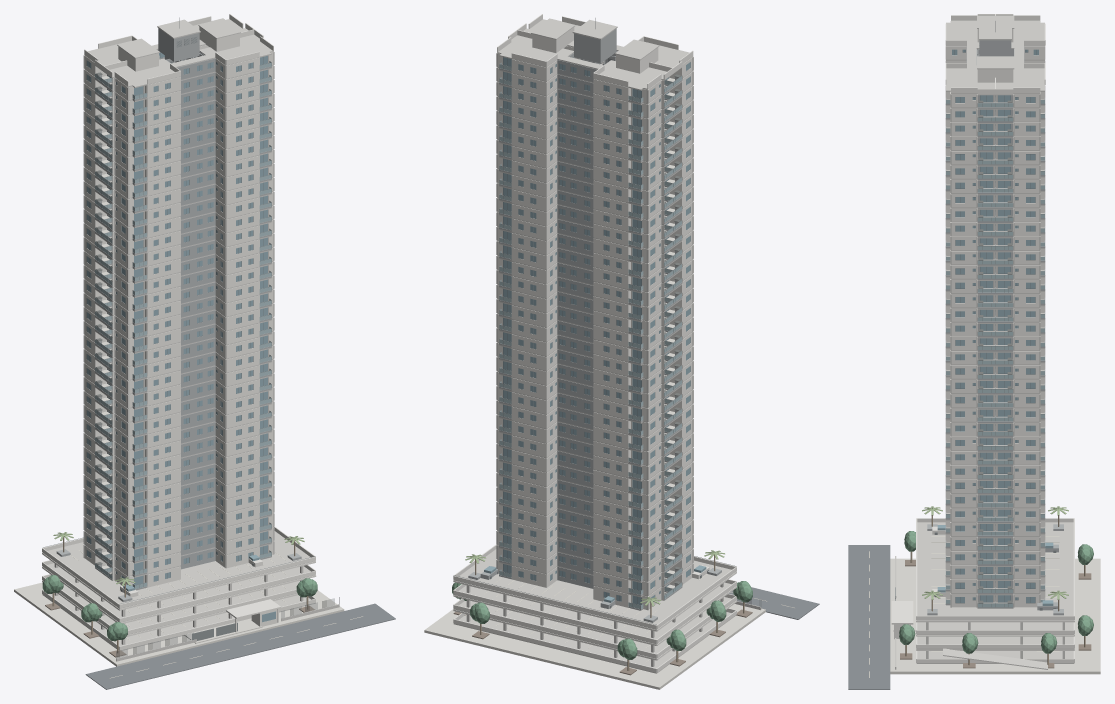
File: Firenze_Grupo15_Torre_Completa.glb
3 renders of one model, left to right at view 1: azimuth 30°, elevation 25°; view 2: azimuth 150°, elevation 25°; view 3: azimuth 270°, elevation 25°, orthographic. The views are drawn at different scales.
Visible parts, largest first — view 1: BASE_GARAGENS_PAISAGISMO/BASE_Garagens_lajes__Concreto, BASE_GARAGENS_PAISAGISMO/BASE_Rua__Asfalto, BASE_GARAGENS_PAISAGISMO/BASE_Garagens_fachadas__Fachada_mar, BASE_GARAGENS_PAISAGISMO/BASE_Terreno__Piso_porcelanato, COBERTURA/TOPO_Cobertura_lajes__Concreto, BASE_GARAGENS_PAISAGISMO/BASE_Terraco__Fachada_marfin, COBERTURA/TOPO_Cobertura_platibandas__Fachada_marfin, BASE_GARAGENS_PAISAGISMO/BASE_Arvores__Verde, COBERTURA/TOPO_Casas_tecnicas__Fachada_marfin, COBERTURA/TOPO_Casas_tecnicas__Concreto, COBERTURA/TOPO_Casa_maquinas__Fachada_cinza, BASE_GARAGENS_PAISAGISMO/BASE_Portaria__Fachada_marfin (+72 smaller); view 2: BASE_GARAGENS_PAISAGISMO/BASE_Garagens_lajes__Concreto, BASE_GARAGENS_PAISAGISMO/BASE_Garagens_fachadas__Fachada_mar, BASE_GARAGENS_PAISAGISMO/BASE_Terreno__Piso_porcelanato, COBERTURA/TOPO_Cobertura_lajes__Concreto, BASE_GARAGENS_PAISAGISMO/BASE_Terraco__Fachada_marfin, COBERTURA/TOPO_Cobertura_platibandas__Fachada_marfin, BASE_GARAGENS_PAISAGISMO/BASE_Arvores__Verde, BASE_GARAGENS_PAISAGISMO/BASE_Rua__Asfalto, COBERTURA/TOPO_Casas_tecnicas__Fachada_marfin, COBERTURA/TOPO_Casas_tecnicas__Concreto, COBERTURA/TOPO_Casa_maquinas__Fachada_cinza, PAVIMENTO_33_APTO_3301/U1_Paredes__Fachada_marfin (+72 smaller); view 3: BASE_GARAGENS_PAISAGISMO/BASE_Garagens_lajes__Concreto, BASE_GARAGENS_PAISAGISMO/BASE_Rua__Asfalto, BASE_GARAGENS_PAISAGISMO/BASE_Terreno__Piso_porcelanato, COBERTURA/TOPO_Cobertura_lajes__Concreto, BASE_GARAGENS_PAISAGISMO/BASE_Garagens_fachadas__Fachada_mar, COBERTURA/TOPO_Cobertura_platibandas__Fachada_marfin, BASE_GARAGENS_PAISAGISMO/BASE_Arvores__Verde, BASE_GARAGENS_PAISAGISMO/BASE_Terraco__Fachada_marfin, COBERTURA/TOPO_Casas_tecnicas__Concreto, BASE_GARAGENS_PAISAGISMO/BASE_Rampa__Concreto, BASE_GARAGENS_PAISAGISMO/BASE_Portaria__Fachada_marfin, COBERTURA/TOPO_Casas_tecnicas__Fachada_marfin (+4 smaller).
Part boxes in pixels (box(x1,y1,x2,y2)): BASE_GARAGENS_PAISAGISMO/BASE_Garagens_lajes__Concreto: box(43, 531, 315, 650); BASE_GARAGENS_PAISAGISMO/BASE_Rua__Asfalto: box(85, 603, 395, 689); BASE_GARAGENS_PAISAGISMO/BASE_Garagens_fachadas__Fachada_mar: box(42, 552, 315, 650); BASE_GARAGENS_PAISAGISMO/BASE_Terreno__Piso_porcelanato: box(14, 582, 344, 666); COBERTURA/TOPO_Cobertura_lajes__Concreto: box(85, 18, 273, 87); BASE_GARAGENS_PAISAGISMO/BASE_Terraco__Fachada_marfin: box(42, 526, 315, 608); COBERTURA/TOPO_Cobertura_platibandas__Fachada_marfin: box(84, 14, 273, 86); BASE_GARAGENS_PAISAGISMO/BASE_Arvores__Verde: box(42, 575, 317, 641); COBERTURA/TOPO_Casas_tecnicas__Fachada_marfin: box(118, 26, 239, 71); COBERTURA/TOPO_Casas_tecnicas__Concreto: box(117, 19, 240, 58); COBERTURA/TOPO_Casa_maquinas__Fachada_cinza: box(158, 28, 199, 61); BASE_GARAGENS_PAISAGISMO/BASE_Portaria__Fachada_marfin: box(226, 599, 280, 632); BASE_GARAGENS_PAISAGISMO/BASE_Garagens_lajes__Concreto: box(453, 549, 735, 673); BASE_GARAGENS_PAISAGISMO/BASE_Garagens_fachadas__Fachada_mar: box(453, 571, 736, 672); BASE_GARAGENS_PAISAGISMO/BASE_Terreno__Piso_porcelanato: box(424, 604, 765, 689); COBERTURA/TOPO_Cobertura_lajes__Concreto: box(497, 18, 692, 90); BASE_GARAGENS_PAISAGISMO/BASE_Terraco__Fachada_marfin: box(453, 544, 736, 629); COBERTURA/TOPO_Cobertura_platibandas__Fachada_marfin: box(497, 14, 693, 88); BASE_GARAGENS_PAISAGISMO/BASE_Arvores__Verde: box(452, 581, 752, 659); BASE_GARAGENS_PAISAGISMO/BASE_Rua__Asfalto: box(729, 587, 819, 619); COBERTURA/TOPO_Casas_tecnicas__Fachada_marfin: box(532, 27, 658, 73); COBERTURA/TOPO_Casas_tecnicas__Concreto: box(531, 19, 659, 60); COBERTURA/TOPO_Casa_maquinas__Fachada_cinza: box(574, 28, 616, 63); PAVIMENTO_33_APTO_3301/U1_Paredes__Fachada_marfin: box(593, 122, 664, 146); BASE_GARAGENS_PAISAGISMO/BASE_Garagens_lajes__Concreto: box(916, 522, 1074, 663); BASE_GARAGENS_PAISAGISMO/BASE_Rua__Asfalto: box(848, 545, 890, 689); BASE_GARAGENS_PAISAGISMO/BASE_Terreno__Piso_porcelanato: box(890, 558, 1100, 674); COBERTURA/TOPO_Cobertura_lajes__Concreto: box(946, 20, 1044, 95); BASE_GARAGENS_PAISAGISMO/BASE_Garagens_fachadas__Fachada_mar: box(916, 620, 1074, 662); COBERTURA/TOPO_Cobertura_platibandas__Fachada_marfin: box(945, 14, 1045, 94); BASE_GARAGENS_PAISAGISMO/BASE_Arvores__Verde: box(899, 531, 1093, 653); BASE_GARAGENS_PAISAGISMO/BASE_Terraco__Fachada_marfin: box(916, 518, 1074, 620); COBERTURA/TOPO_Casas_tecnicas__Concreto: box(977, 15, 1014, 69); BASE_GARAGENS_PAISAGISMO/BASE_Rampa__Concreto: box(943, 648, 1047, 669); BASE_GARAGENS_PAISAGISMO/BASE_Portaria__Fachada_marfin: box(891, 601, 913, 639); COBERTURA/TOPO_Casas_tecnicas__Fachada_marfin: box(977, 29, 1013, 82).
Bounding box in the file's own units: 65 × 125 × 48.
